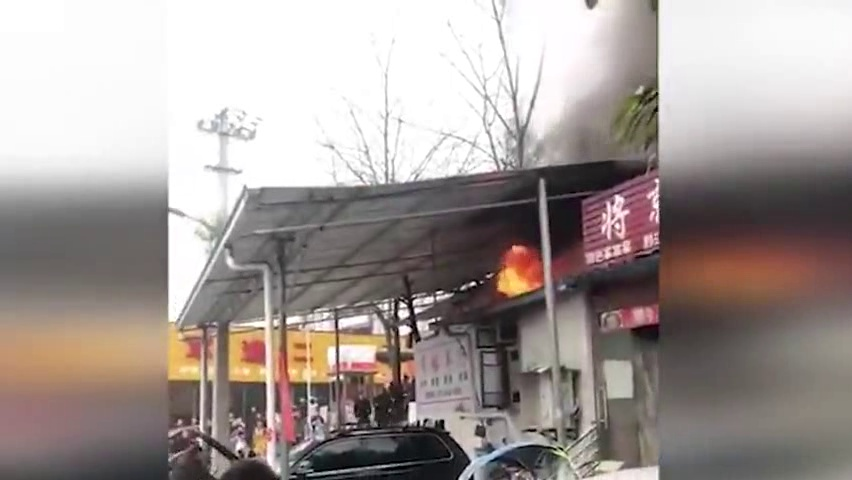fire: (493, 238, 551, 297)
